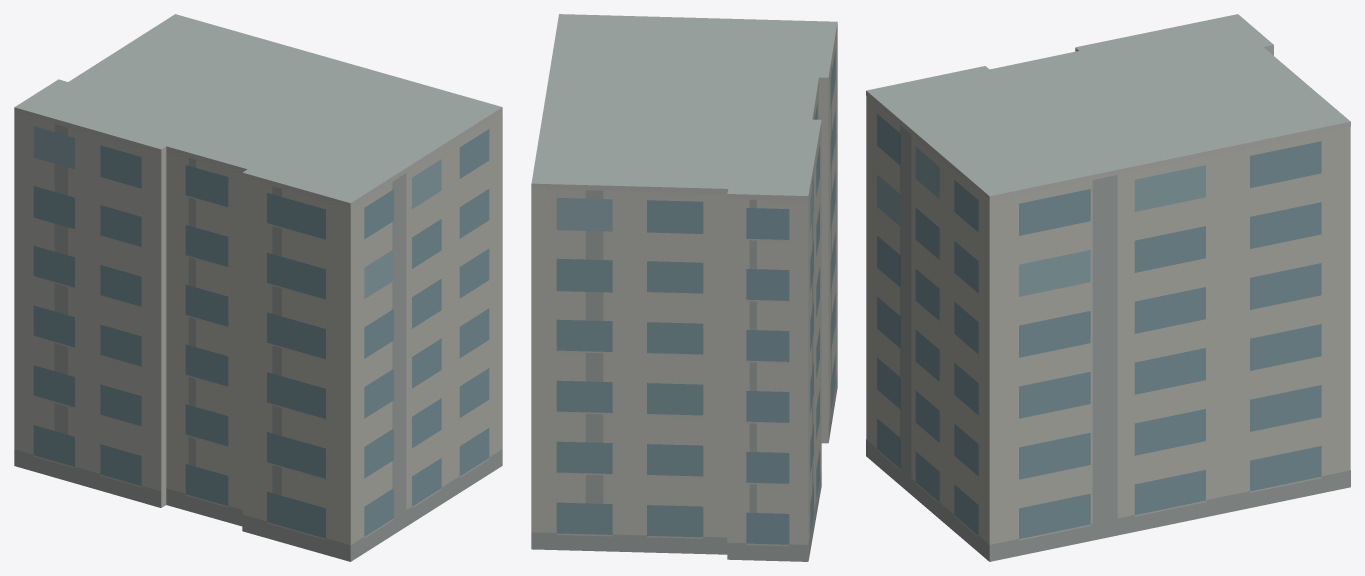
Rendered from survey-upis-33020549.glb.
3 views of the same model, side by side, from view 1: azimuth 30°, elevation 25°; view 2: azimuth 150°, elevation 25°; view 3: azimuth 270°, elevation 25° (orthographic).
Visible parts, largest first — view 1: survey-upis-33020549.tmp; view 2: survey-upis-33020549.tmp; view 3: survey-upis-33020549.tmp.
Part boxes in pixels (x1=…): survey-upis-33020549.tmp: x1=14, y1=14, x2=502, y2=561; survey-upis-33020549.tmp: x1=531, y1=14, x2=837, y2=561; survey-upis-33020549.tmp: x1=866, y1=14, x2=1350, y2=561.
Size of the model in its own units: 18.61 by 17.4 by 20.91.
